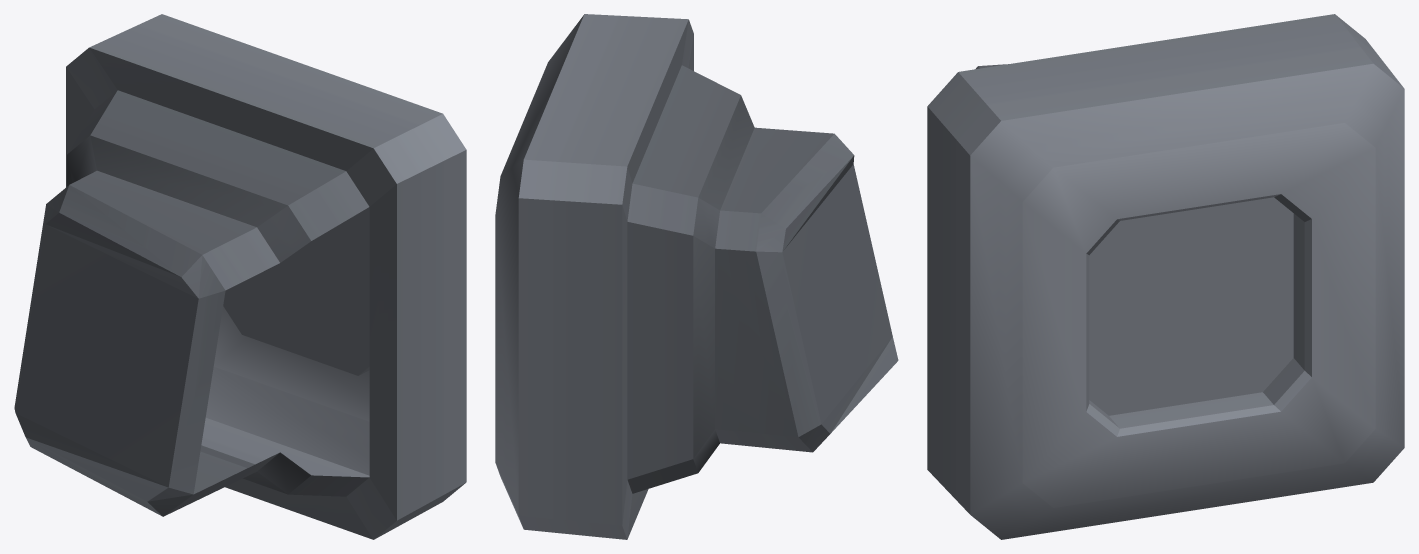
File: Pillar Broken 03.FBX
The picture shows the model from 3 angles, left to right: view 1: azimuth 30°, elevation 25°; view 2: azimuth 150°, elevation 25°; view 3: azimuth 270°, elevation 25°; orthographic projection. The views are drawn at different scales.
Visible parts, largest first — view 1: Pillar Broken 03; view 2: Pillar Broken 03; view 3: Pillar Broken 03.
Boxes of the visible parts, bbox=[...] form: Pillar Broken 03: bbox=[14, 14, 466, 539]; Pillar Broken 03: bbox=[495, 14, 898, 539]; Pillar Broken 03: bbox=[927, 14, 1404, 539].
Bounding box in the file's own units: 75.24 × 77.95 × 79.74.
